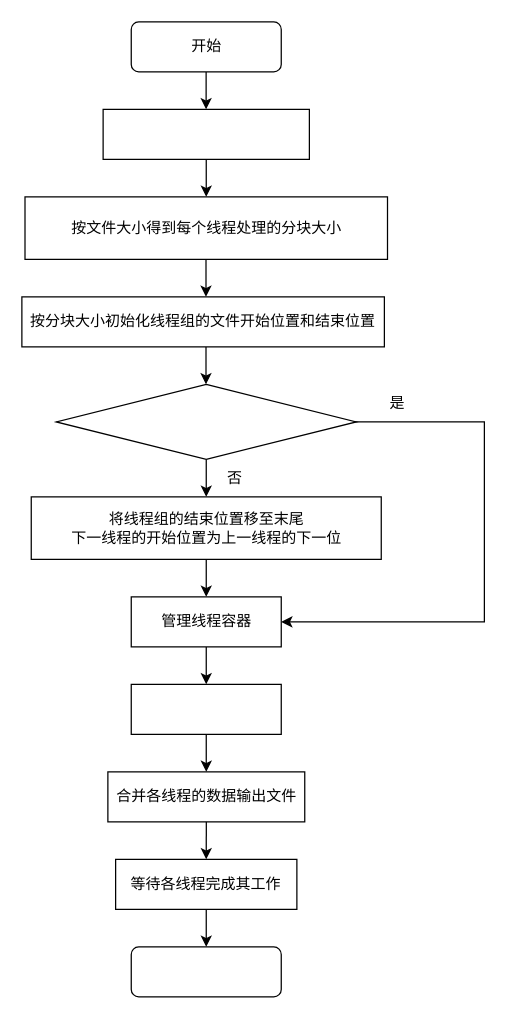
Image size: 516x1019. Some labels were removed from this diagram. Here are the shapes that lost their labels. From the top down, the centre of each, then its label:
At [205,133]: "获取文件大小".
At [205,421]: "判断各线程的结束位置是否为行尾".
At [205,708]: "各线程进行文件处理".
At [205,971]: "结束".
